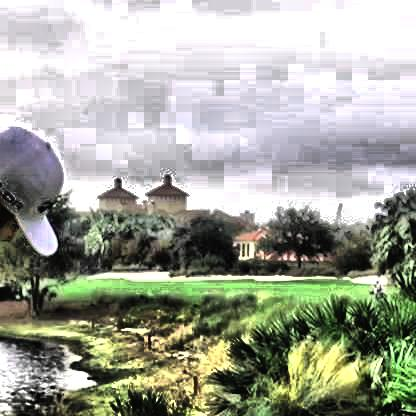golfball: (206, 206, 211, 213)
